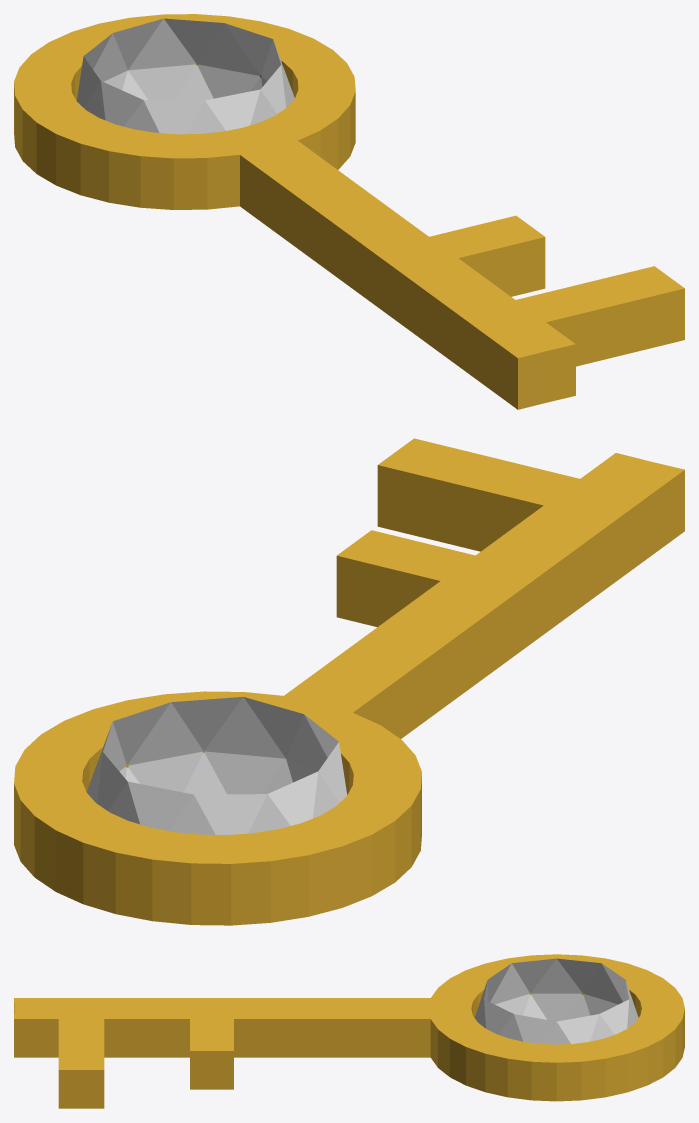
The model's file is Key001.fbx.
3 renders of one model, top to bottom at view 1: azimuth 30°, elevation 25°; view 2: azimuth 150°, elevation 25°; view 3: azimuth 270°, elevation 25°, orthographic. The views are drawn at different scales.
Parts seen in each view (by area): view 1: Cylinder, Icosphere; view 2: Cylinder, Icosphere; view 3: Cylinder, Icosphere.
Part boxes in pixels (x1=…): Cylinder: x1=14, y1=14, x2=684, y2=409; Icosphere: x1=76, y1=18, x2=294, y2=134; Cylinder: x1=14, y1=438, x2=684, y2=925; Icosphere: x1=86, y1=696, x2=347, y2=834; Cylinder: x1=14, y1=954, x2=684, y2=1108; Icosphere: x1=474, y1=958, x2=638, y2=1044.
Bounding box in the file's own units: 321 × 99.86 × 786.
